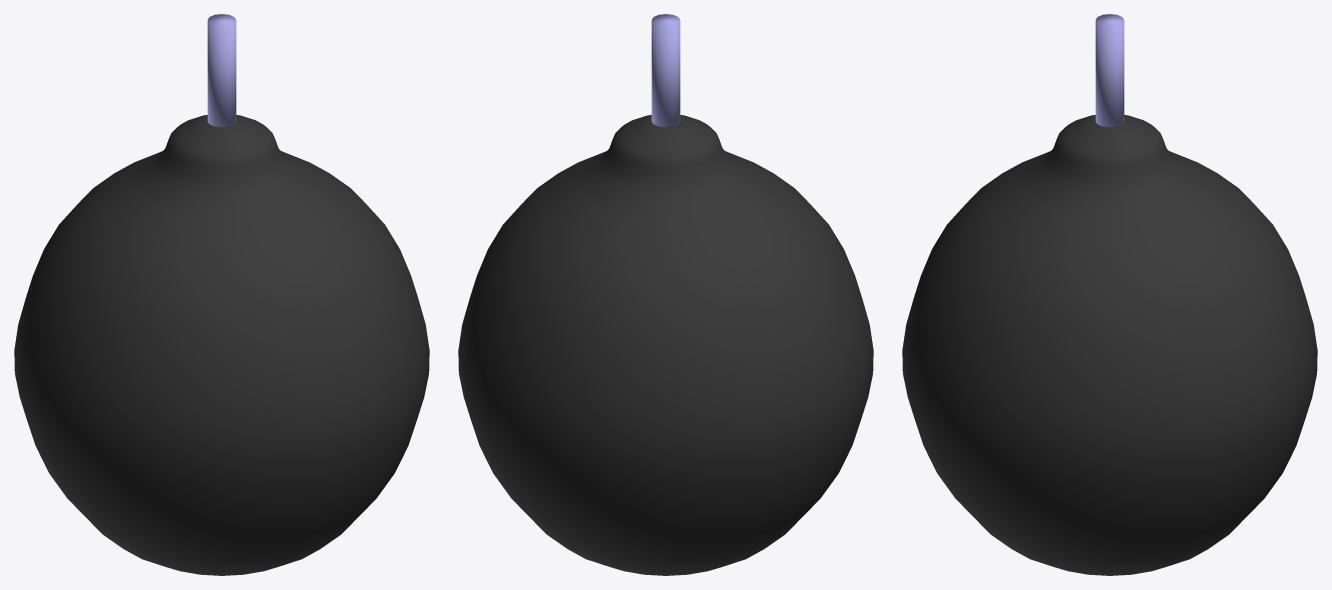
The model's file is bomb.fbx.
3 views of the same model, side by side, from view 1: azimuth 30°, elevation 25°; view 2: azimuth 150°, elevation 25°; view 3: azimuth 270°, elevation 25° (orthographic).
Parts seen in each view (by area): view 1: bomb, bomb_thread; view 2: bomb, bomb_thread; view 3: bomb, bomb_thread.
Part boxes in pixels (bbox=[...]): bomb: bbox=[14, 115, 429, 575]; bomb_thread: bbox=[207, 14, 236, 127]; bomb: bbox=[458, 115, 873, 575]; bomb_thread: bbox=[651, 14, 680, 127]; bomb: bbox=[902, 115, 1317, 575]; bomb_thread: bbox=[1095, 14, 1124, 127].
Size of the model in its own units: 52.44 by 74.93 by 52.44.
